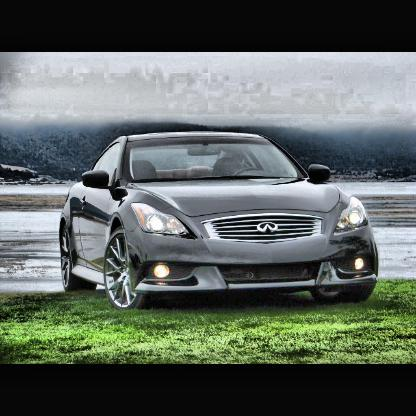Infiniti G Coupe IPL 2012: (63, 134, 381, 306)
